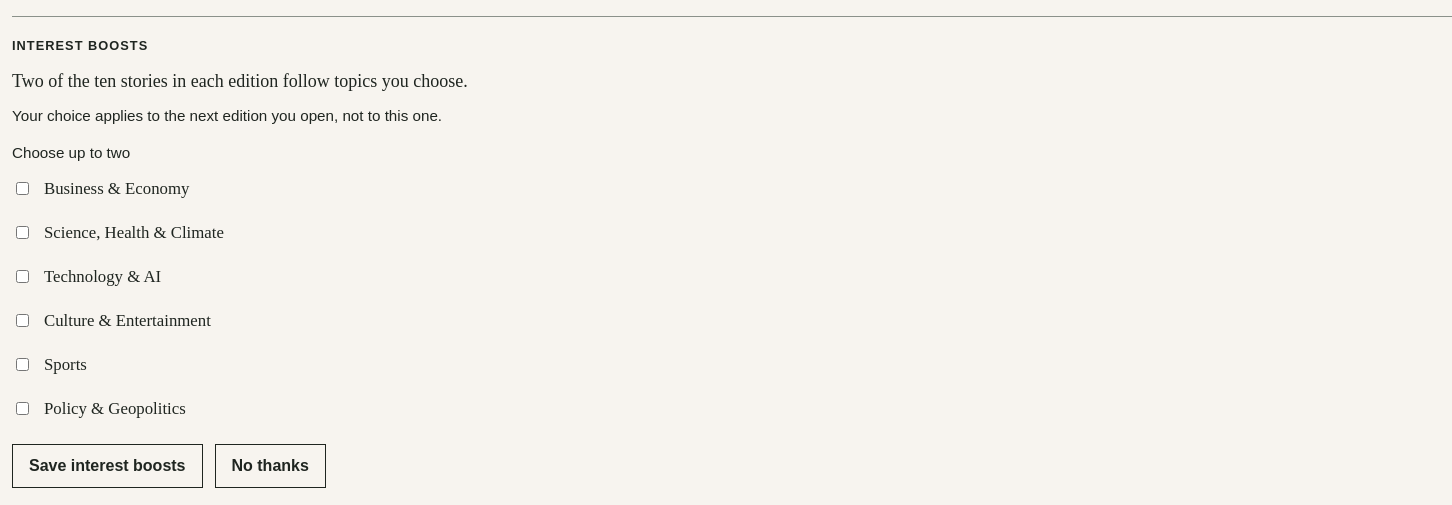
Test: the six choices › makes only the unchosen options unavailable at the limit, never a chosen one
Click the checkbox labelled "Technology & AI": (22, 277) [16,270,29,283]
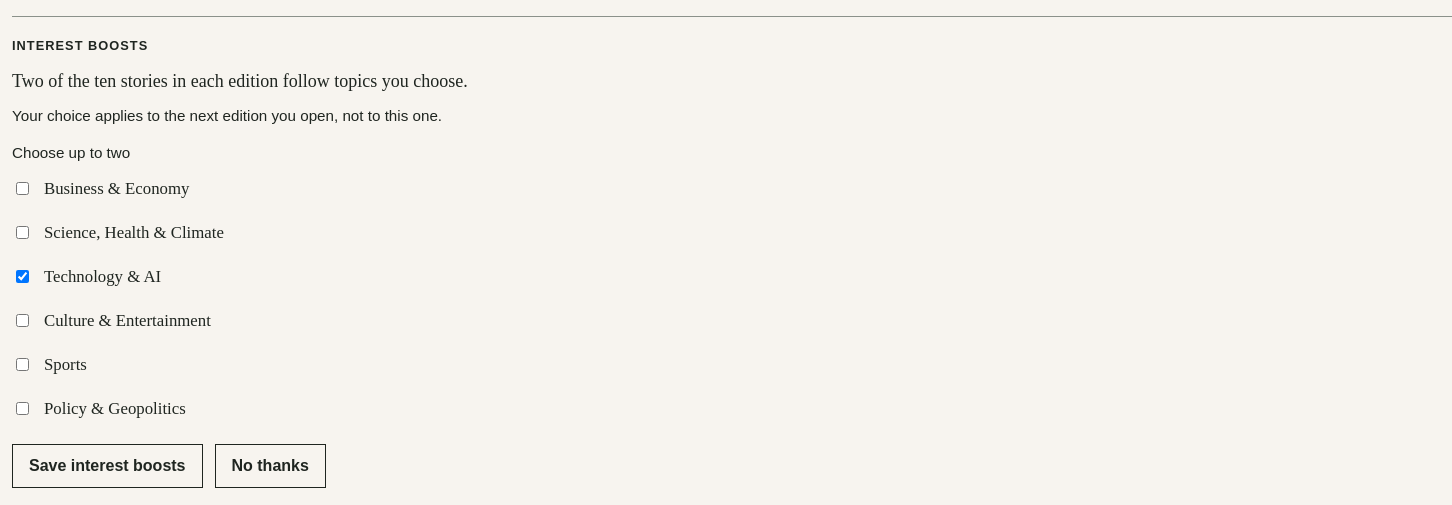
Click the checkbox labelled "Sports": (22, 365) [16,358,29,371]
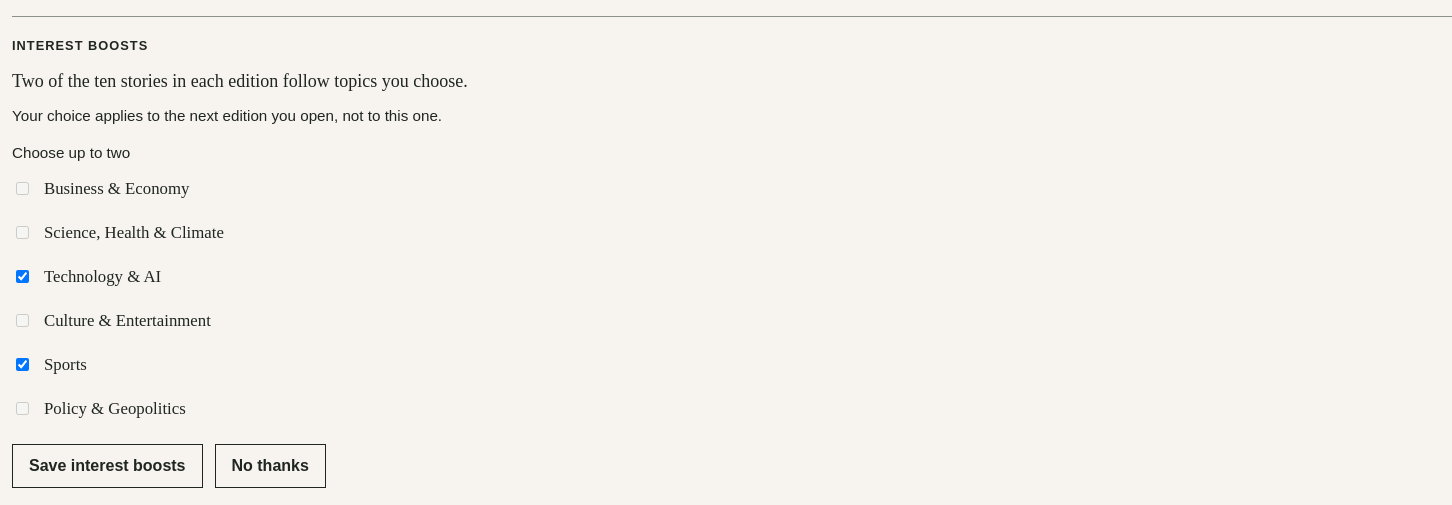
Now the checkbox labelled "Business & Economy" is disabled, box [16,182,29,195]
Now the checkbox labelled "Science, Health & Climate" is disabled, box [16,226,29,239]
Now the checkbox labelled "Culture & Entertainment" is disabled, box [16,314,29,327]
